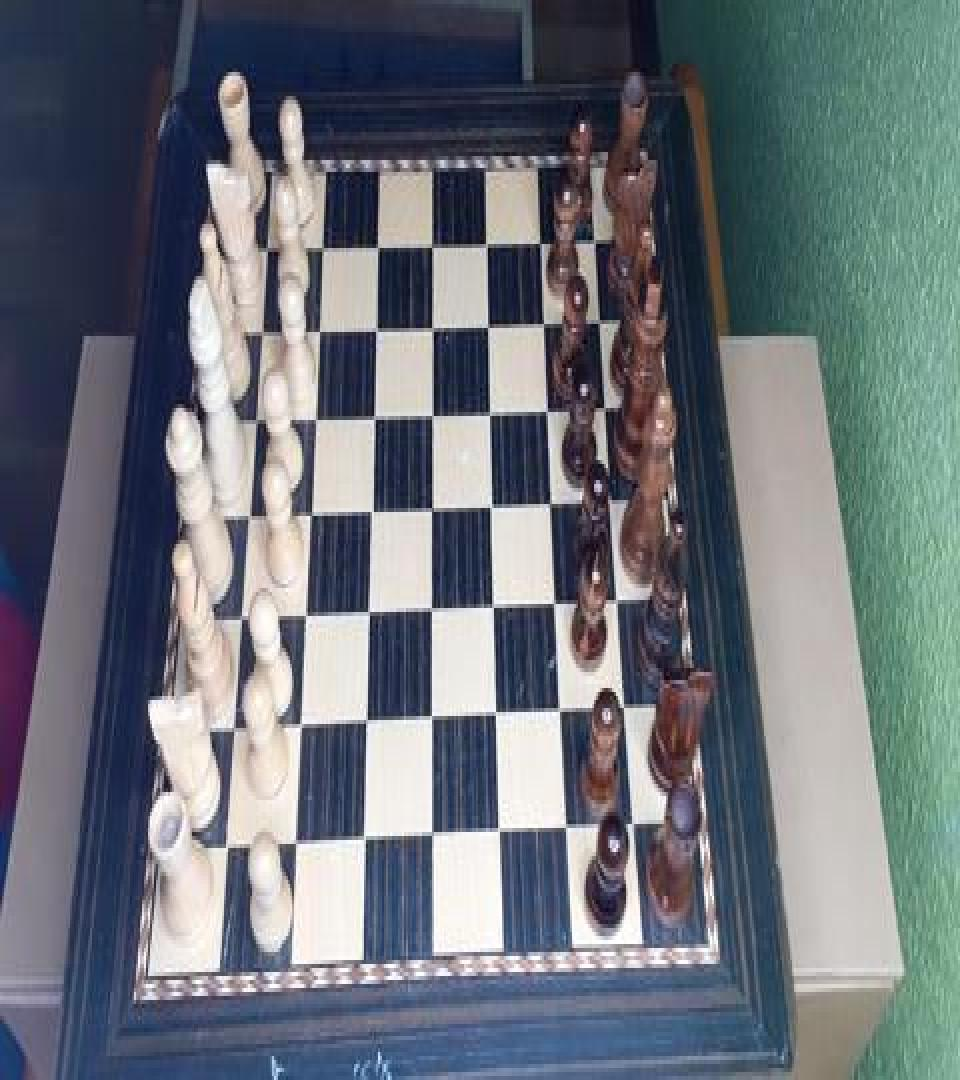xcorner: (585, 218, 603, 254), (531, 220, 549, 256), (477, 220, 495, 256), (422, 222, 440, 258), (367, 222, 385, 258), (312, 224, 330, 260), (256, 224, 274, 260), (591, 300, 609, 336), (535, 302, 553, 338), (479, 302, 497, 338), (423, 304, 441, 340), (366, 306, 384, 342), (308, 308, 326, 344), (250, 308, 268, 344), (597, 388, 615, 424), (539, 390, 557, 426), (481, 392, 499, 428), (423, 392, 441, 428), (364, 394, 382, 430), (304, 396, 322, 432), (244, 398, 262, 434), (603, 482, 621, 518), (544, 484, 562, 520), (483, 486, 501, 522), (423, 488, 441, 524), (362, 490, 380, 526), (300, 494, 318, 530), (237, 496, 255, 532), (610, 582, 628, 618), (548, 586, 566, 622), (486, 588, 504, 624), (423, 592, 441, 628), (359, 594, 377, 630), (295, 598, 313, 634), (230, 600, 248, 636), (618, 692, 636, 728), (554, 696, 572, 732), (489, 698, 507, 734), (423, 702, 441, 738), (357, 706, 375, 742), (290, 710, 308, 746), (222, 714, 240, 750), (626, 810, 644, 846), (559, 814, 577, 850), (492, 818, 510, 854), (423, 824, 441, 860), (354, 828, 372, 864), (285, 832, 303, 868), (214, 836, 232, 872)
